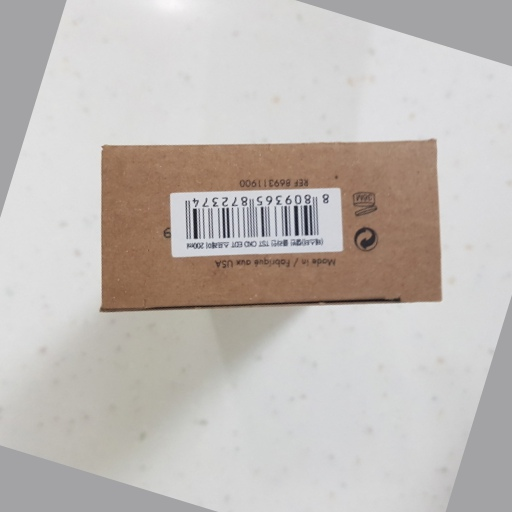Paper_0: (94, 136, 449, 318)
